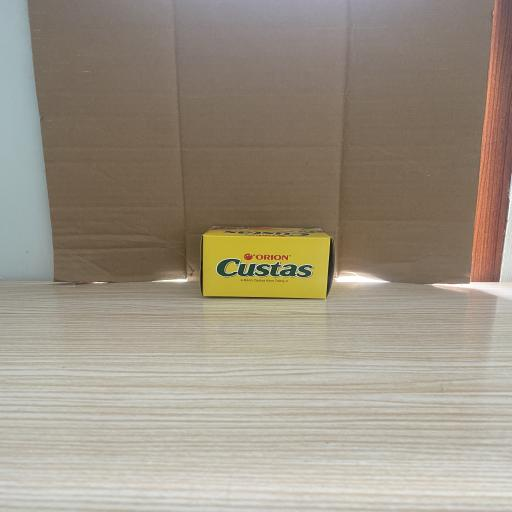custas: (200, 226, 335, 299)
